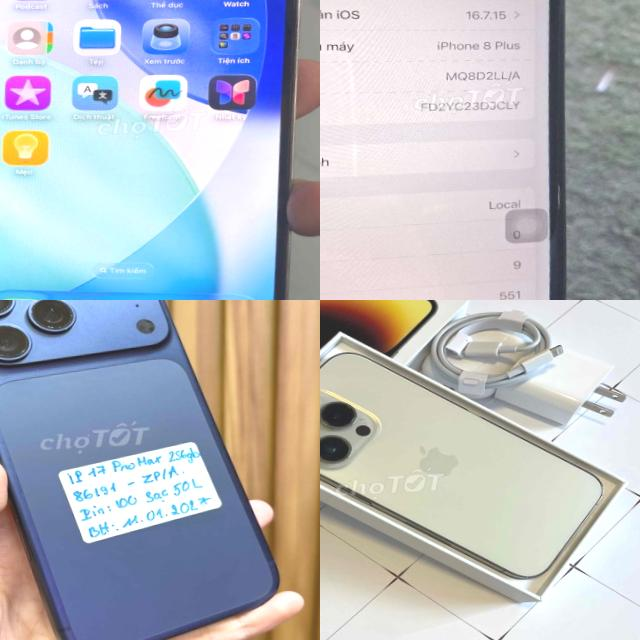gen_14: (320, 336, 613, 603)
gen_15: (0, 0, 320, 300)
gen_17: (0, 300, 292, 640)
gen_7_8: (320, 0, 595, 300)
